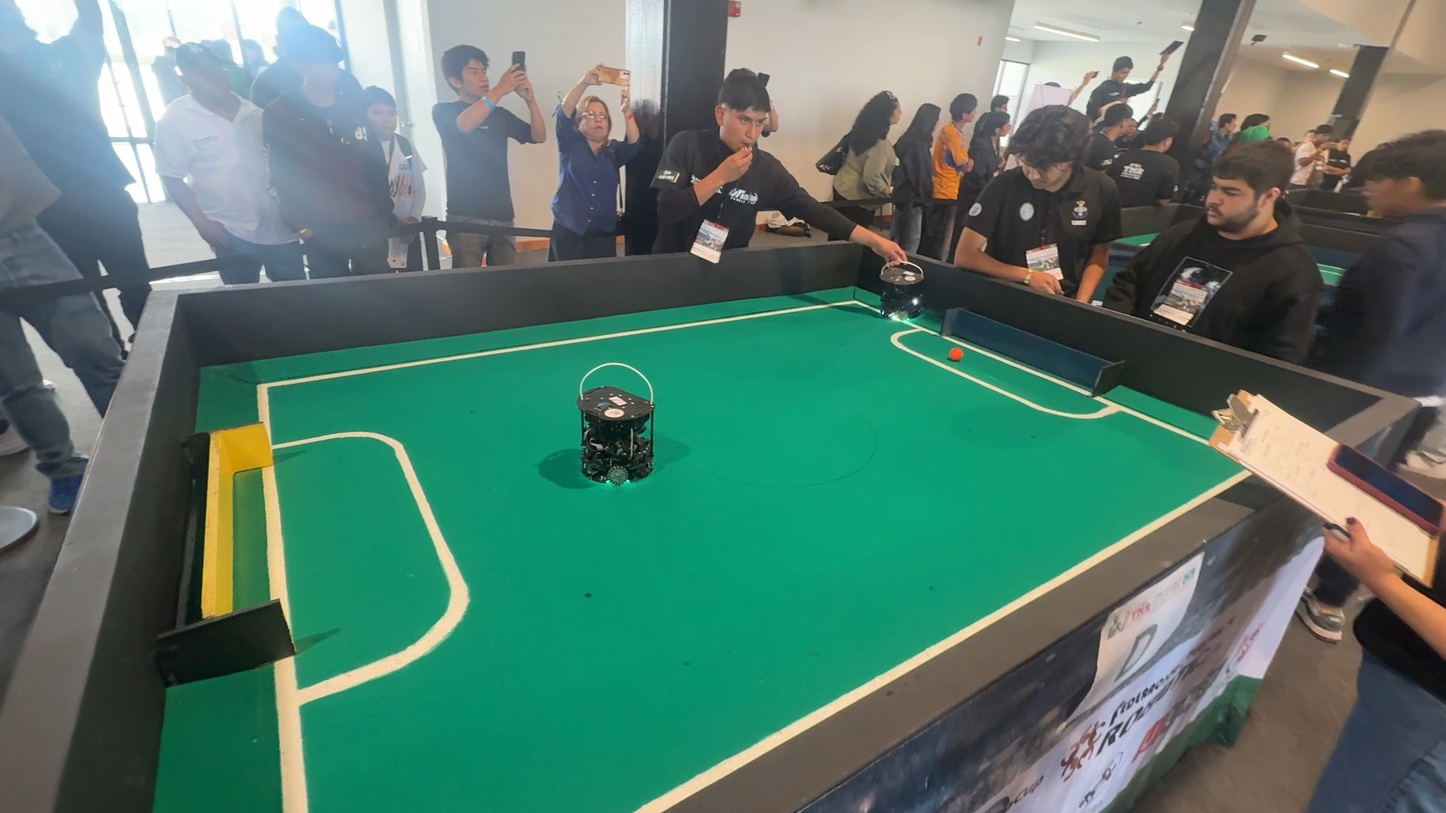Robot: (553, 364, 688, 504), (858, 241, 936, 326)
pelota: (947, 347, 966, 364)
